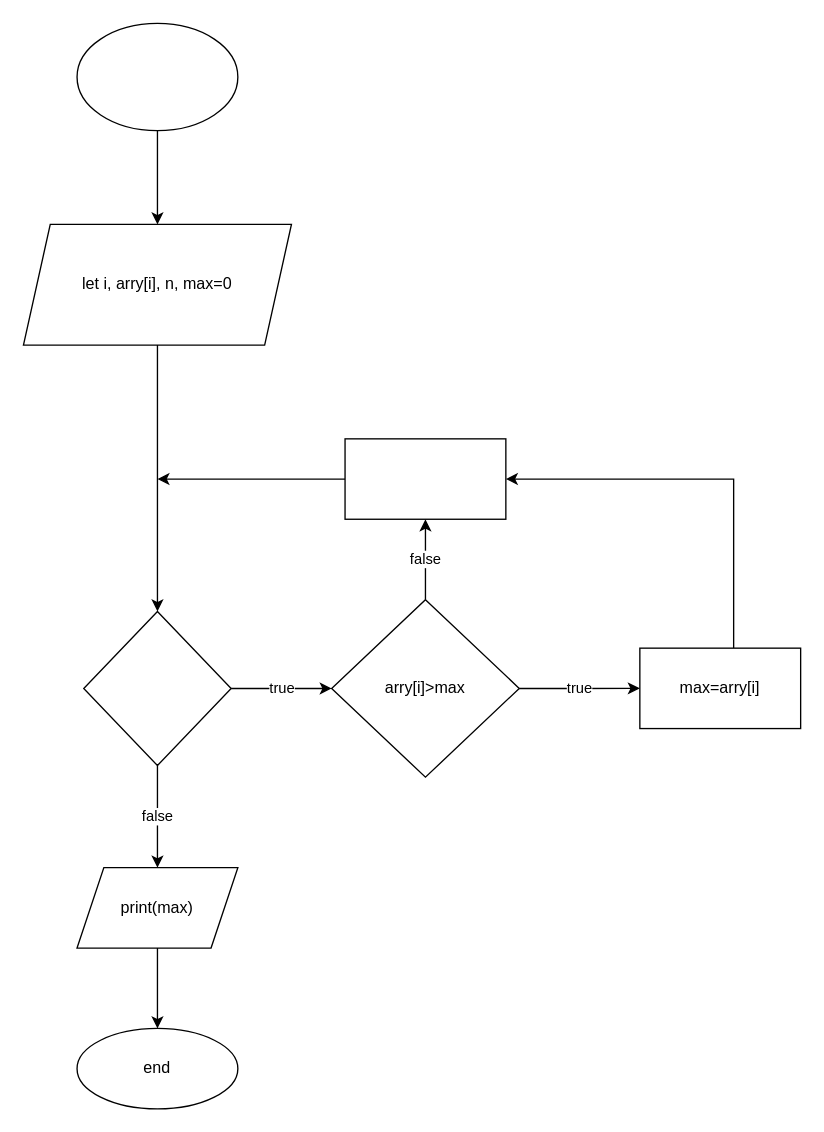
The diagram is 824 pixels wide and 1132 high, and some of its shapes have lost their labels. The box of each missing label's shape, as (x1, y1, x2, y2) in pixels:
i++: (344, 438, 506, 519)
i<n: (82, 610, 231, 766)
Start: (76, 22, 238, 131)
